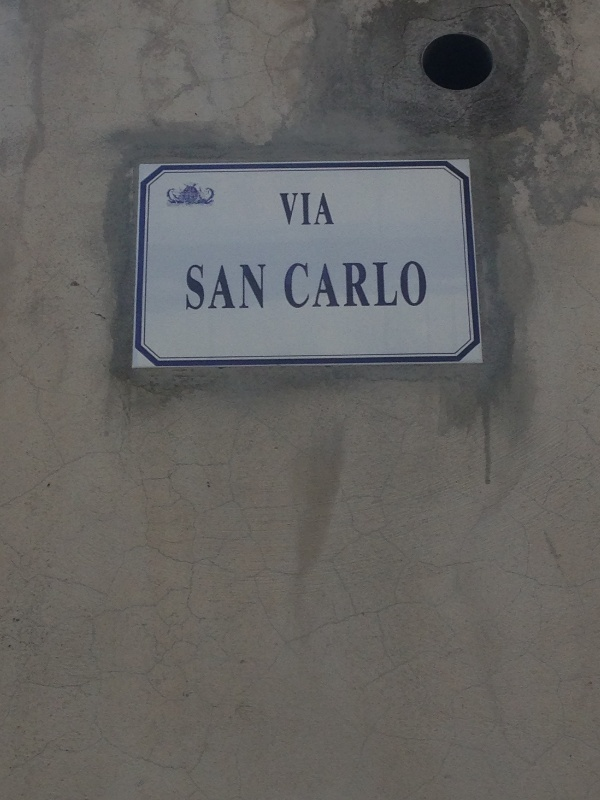text: (289, 259, 304, 310), (305, 259, 320, 310), (321, 259, 336, 310), (337, 259, 352, 310), (353, 259, 368, 310), (369, 259, 384, 310), (385, 259, 400, 310), (401, 259, 416, 310), (193, 262, 208, 312), (209, 262, 224, 312), (225, 262, 240, 312), (241, 262, 256, 312), (417, 259, 427, 310), (289, 193, 304, 225), (305, 193, 320, 225), (257, 262, 266, 312), (321, 193, 334, 225), (280, 193, 288, 225), (187, 262, 192, 312), (285, 259, 288, 310)
